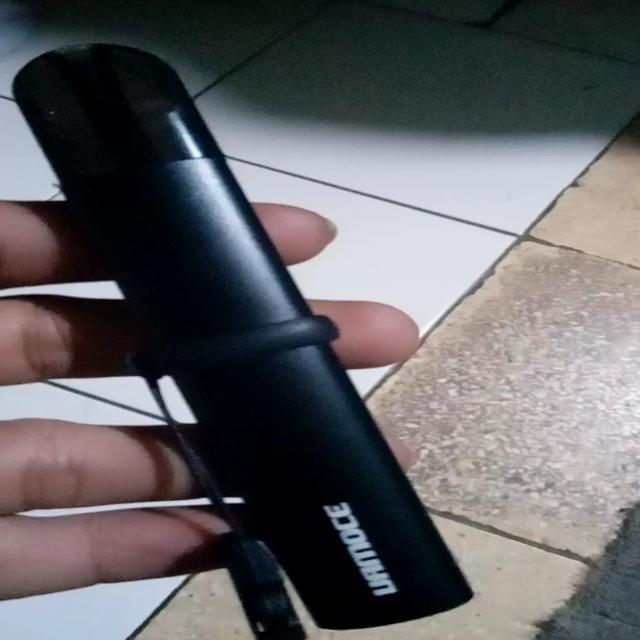Hazard: (9, 42, 480, 632)
